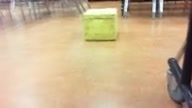cube: (81, 8, 118, 41)
